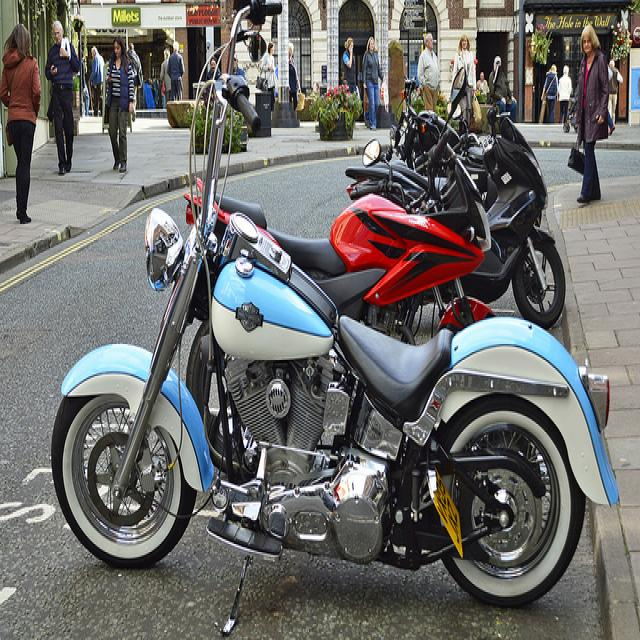motor: (51, 4, 623, 607), (212, 69, 496, 346), (344, 120, 567, 331), (383, 60, 458, 158), (449, 101, 518, 175)
